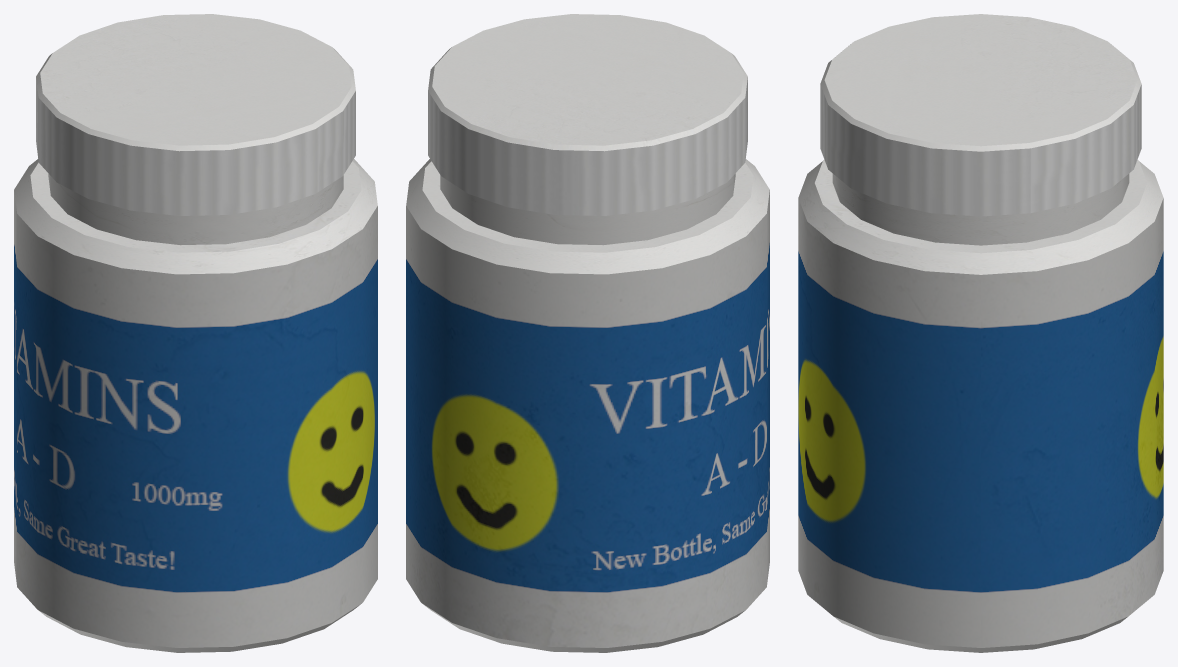
File: VitaminBottle.FBX
The picture shows the model from 3 angles, left to right: view 1: azimuth 30°, elevation 25°; view 2: azimuth 150°, elevation 25°; view 3: azimuth 270°, elevation 25°; orthographic projection.
Visible parts, largest first — view 1: VitaminBottle001; view 2: VitaminBottle001; view 3: VitaminBottle001.
Part boxes in pixels (x1,y1,x2,y2): VitaminBottle001: [14, 14, 377, 652]; VitaminBottle001: [406, 14, 769, 652]; VitaminBottle001: [798, 14, 1163, 652].
Bounding box in the file's own units: 2.5 × 3.78 × 2.5.
1 material, 1 textured.
